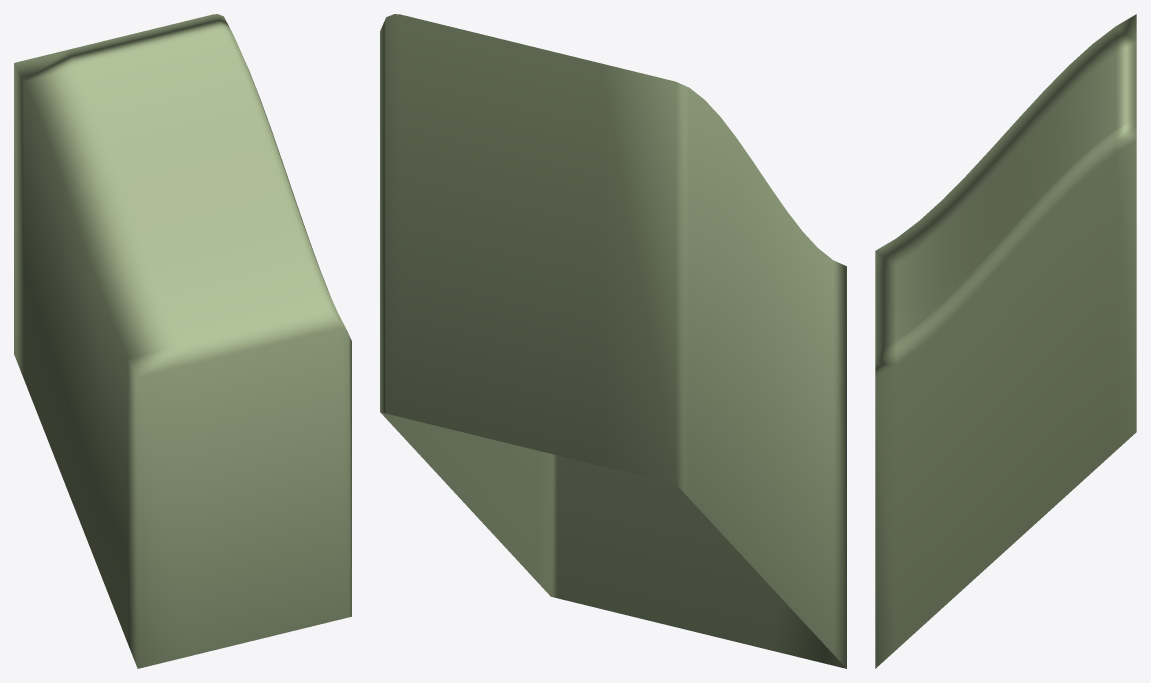
The model's file is ground-ramp-r-10.glb.
3 renders of one model, left to right at view 1: azimuth 30°, elevation 25°; view 2: azimuth 150°, elevation 25°; view 3: azimuth 270°, elevation 25°, orthographic. The views are drawn at different scales.
Visible parts, largest first — view 1: ground-ramp-r-10; view 2: ground-ramp-r-10; view 3: ground-ramp-r-10.
Part boxes in pixels (x1,y1,x2,y2): ground-ramp-r-10: (14, 14, 351, 668); ground-ramp-r-10: (380, 14, 846, 668); ground-ramp-r-10: (875, 14, 1136, 668).
Size of the model in its own units: 1 by 2.3 by 1.
